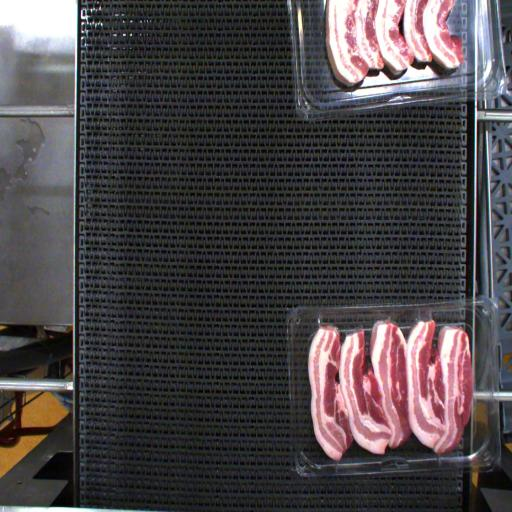packaging-error: (409, 307, 442, 332), (306, 312, 331, 333)
